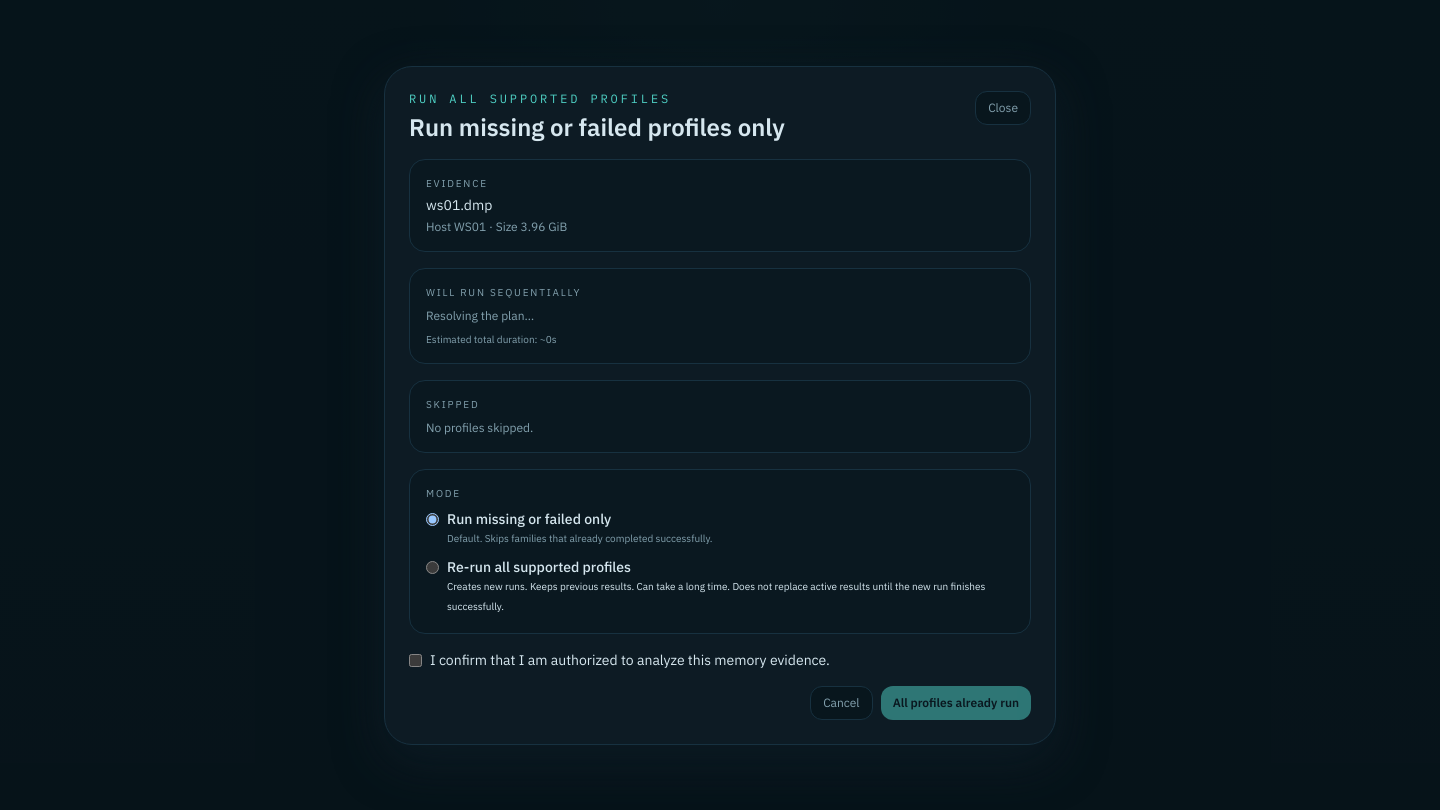
Test case: Memory overview, profile catalogue and run-all › disables the Run all confirm button while the request is in flight
Click the checkbox with test id "memory-run-all-ack-checkbox".
click(416, 660)  # box [409,654,422,666]
(page scrolled)
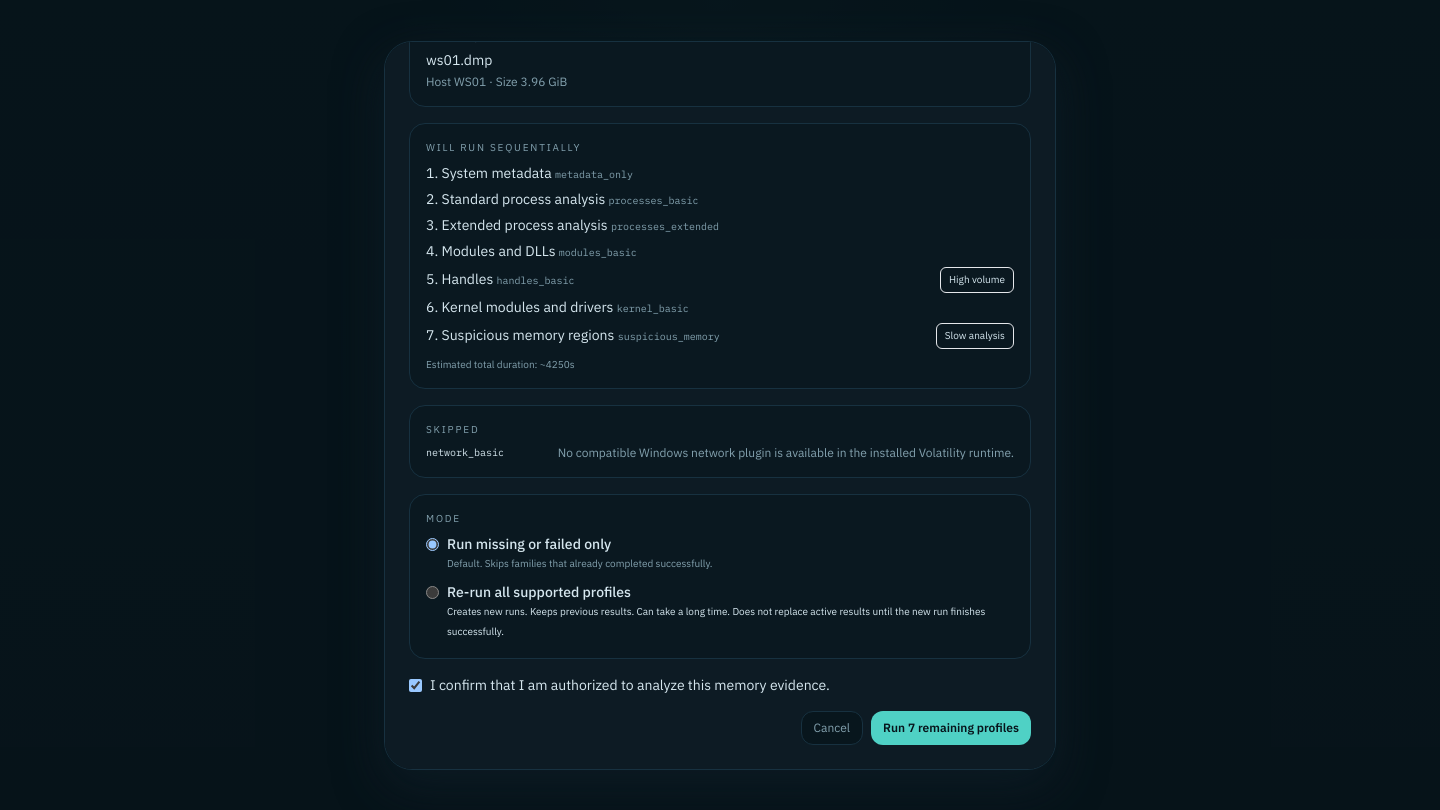
Click the button with test id "memory-run-all-confirm".
click(951, 728)  # box [871,710,1031,744]
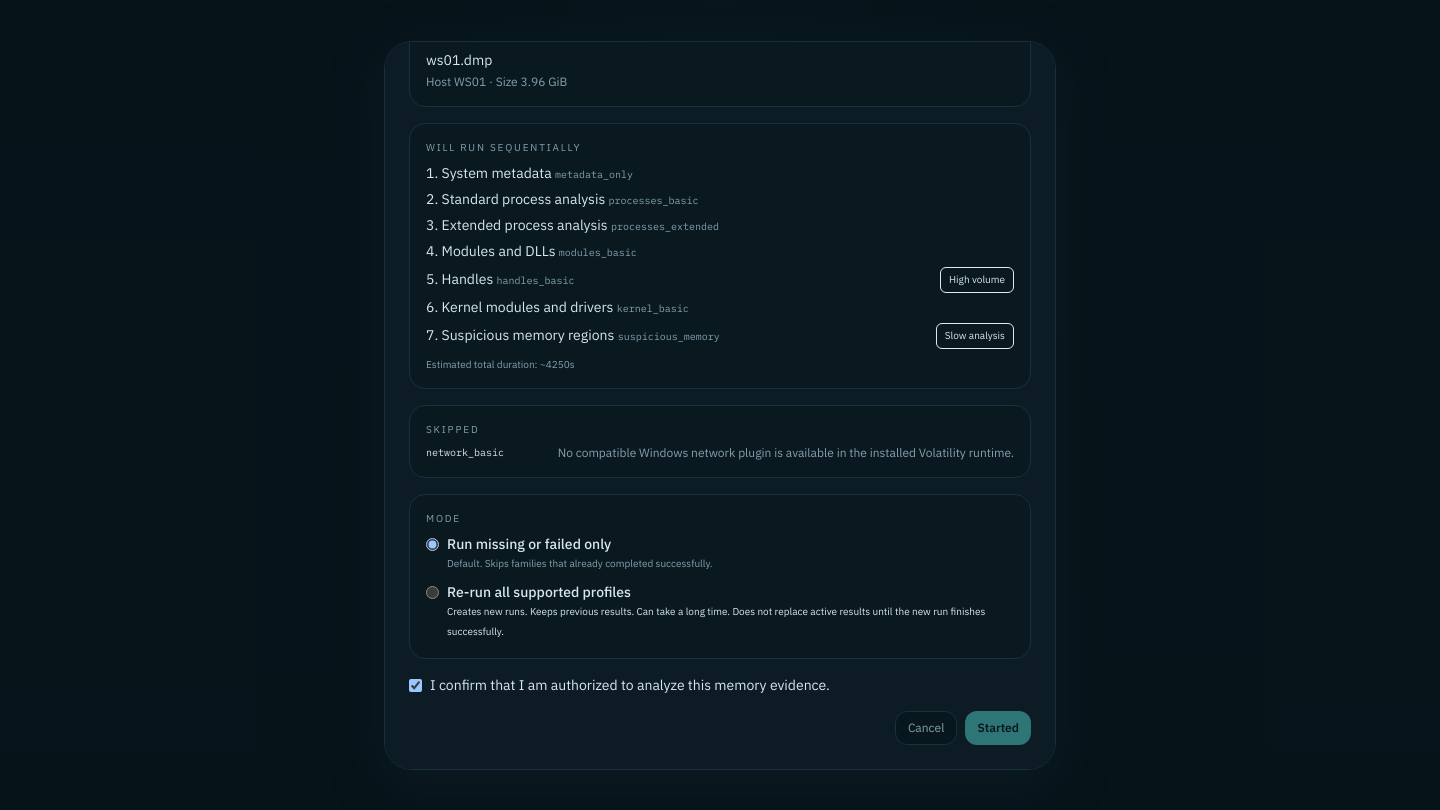
Expected: the button with test id "memory-run-all-confirm" is disabled, [965,710,1031,744]
